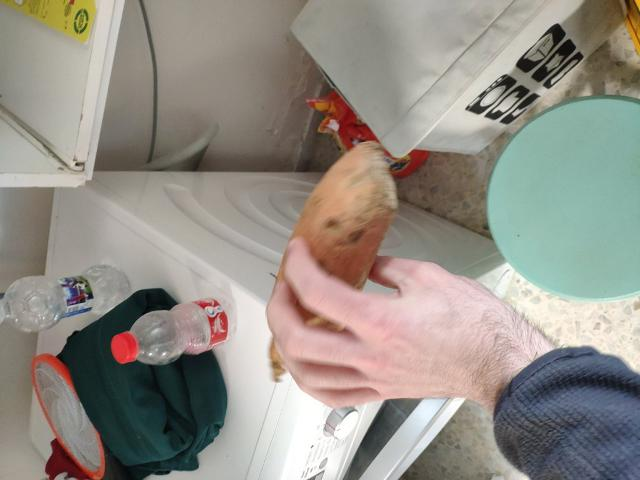sweet_potato: (269, 162, 375, 389)
